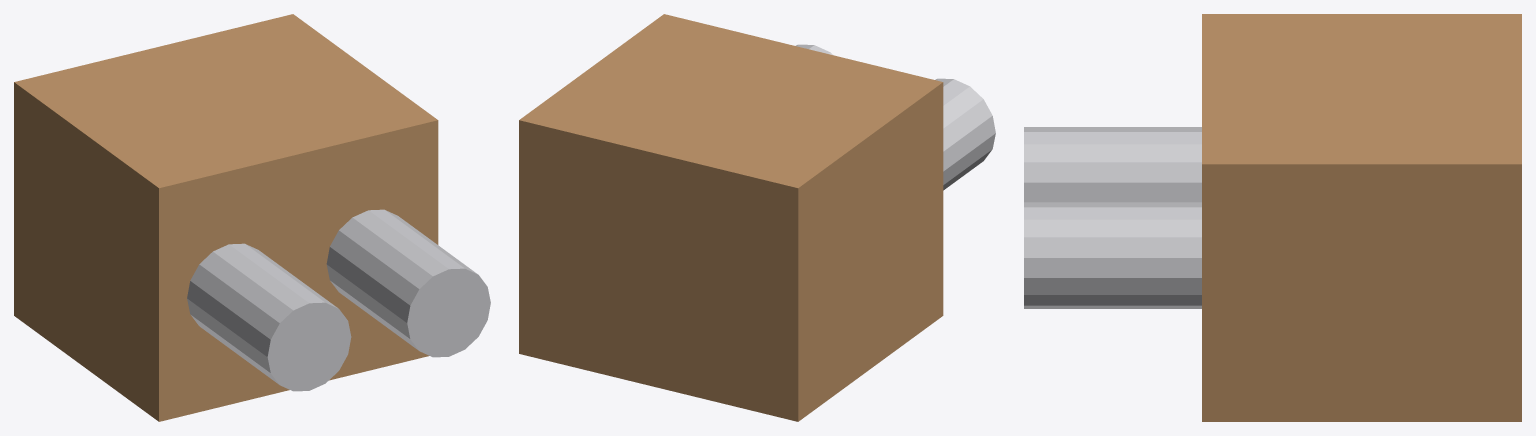
Rendered from isru.glb.
The picture shows the model from 3 angles, left to right: view 1: azimuth 30°, elevation 25°; view 2: azimuth 150°, elevation 25°; view 3: azimuth 270°, elevation 25°; orthographic projection. The views are drawn at different scales.
Visible parts, largest first — view 1: geometry_0, geometry_2, geometry_1; view 2: geometry_0, geometry_1; view 3: geometry_0, geometry_2, geometry_1.
Part boxes in pixels (left/top/right/bottom): geometry_0: left=14, top=14, right=438, bottom=421; geometry_2: left=326, top=209, right=490, bottom=357; geometry_1: left=187, top=243, right=351, bottom=391; geometry_0: left=519, top=14, right=943, bottom=421; geometry_1: left=935, top=78, right=995, bottom=190; geometry_0: left=1202, top=14, right=1521, bottom=421; geometry_2: left=1024, top=202, right=1201, bottom=308; geometry_1: left=1024, top=127, right=1201, bottom=202.
Bounding box in the file's own units: 1 × 0.9 × 1.4.
